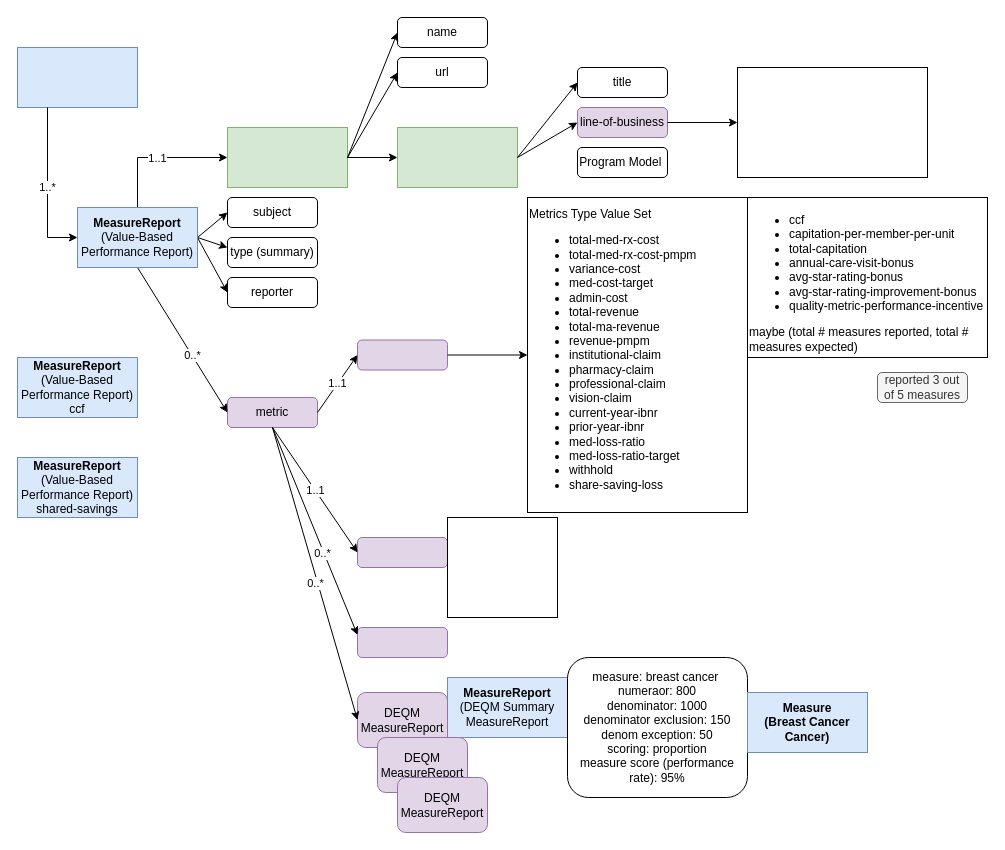
Some shapes in this 1005 by 850 pixel diagram are drawn without their labels. Each missing label, with the centre of its shape:
"Bundle" belongs at [77,77].
"choice: valueDecimal valueMoney valueInteger valueQuantity ...." belongs at [502,567].
"Contract (VBC Contract)" belongs at [457,157].
"LOB Value Set ccf ccf-with-risk p4p ........" belongs at [832,122].
"Measure (VBC Measure)" belongs at [287,157].
"metric type" belongs at [402,354].
"payment stream" belongs at [402,642].
"value" belongs at [402,552].
